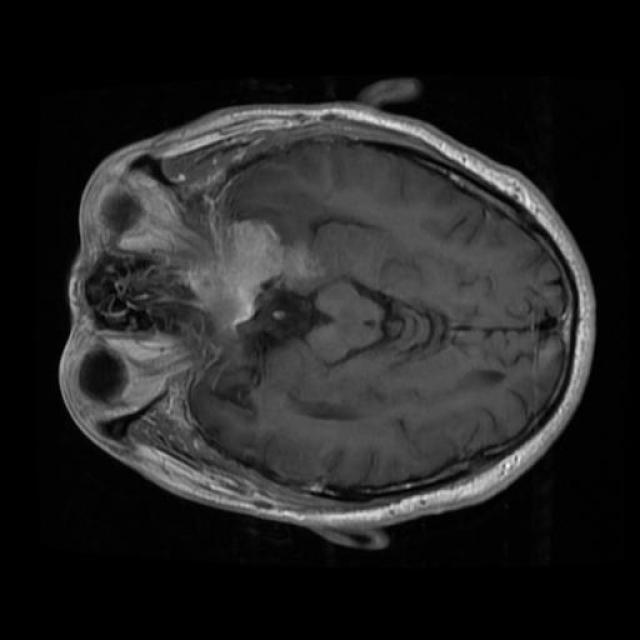Meningioma: (229, 220, 313, 296)
